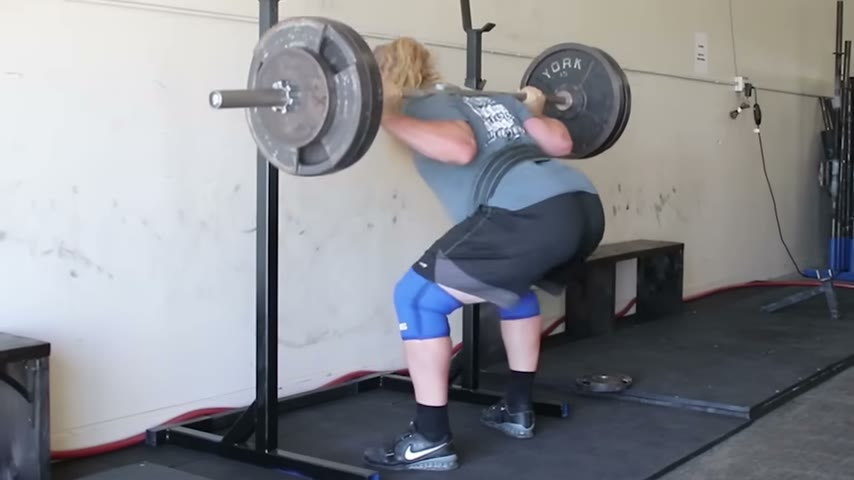barbell_plate_side: (202, 19, 316, 182), (524, 34, 635, 166)
